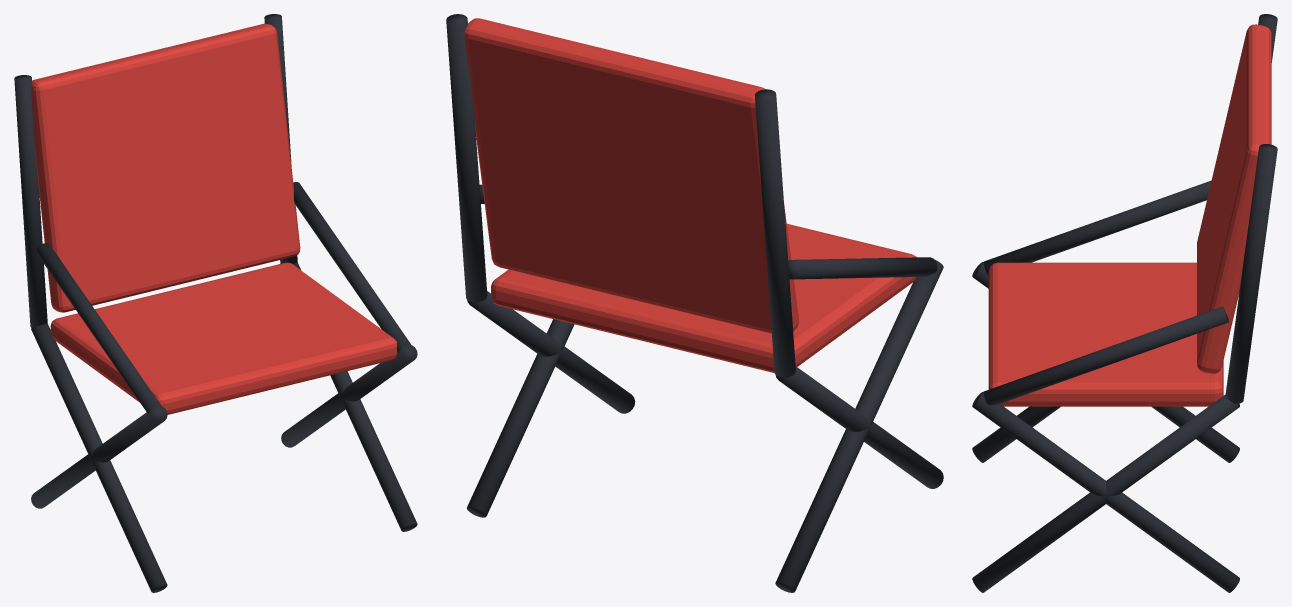
File: silla_plegable.glb
The picture shows the model from 3 angles, left to right: view 1: azimuth 30°, elevation 25°; view 2: azimuth 150°, elevation 25°; view 3: azimuth 270°, elevation 25°; orthographic projection. The views are drawn at different scales.
Visible parts, largest first — view 1: Cube.001, Cube, Cylinder, Cylinder.002, Cylinder.003, Cylinder.007, Cylinder.004, Cylinder.001, Cylinder.005, Cylinder.006; view 2: Cube.001, Cube, Cylinder.001, Cylinder.002, Cylinder.006, Cylinder.005, Cylinder, Cylinder.004, Cylinder.003; view 3: Cube, Cube.001, Cylinder.004, Cylinder.005, Cylinder.006, Cylinder.007, Cylinder.003, Cylinder.001, Cylinder.
Boxes of the visible parts, x1,y1,x2,y2 form: Cube.001: (31, 23, 300, 312); Cube: (50, 262, 397, 414); Cylinder: (31, 323, 167, 592); Cylinder.002: (14, 75, 47, 327); Cylinder.003: (36, 243, 161, 413); Cylinder.007: (293, 182, 411, 352); Cylinder.004: (293, 262, 417, 531); Cylinder.001: (31, 405, 167, 508); Cylinder.005: (281, 344, 417, 447); Cylinder.006: (264, 14, 297, 263); Cube.001: (464, 18, 798, 333); Cube: (491, 223, 916, 372); Cylinder.001: (775, 259, 943, 592); Cylinder.002: (754, 89, 795, 377); Cylinder.006: (446, 14, 487, 302); Cylinder.005: (467, 319, 574, 517); Cylinder: (775, 366, 943, 488); Cylinder.004: (467, 291, 635, 413); Cylinder.003: (788, 257, 937, 279); Cube: (988, 262, 1223, 406); Cube.001: (1197, 24, 1271, 373); Cylinder.004: (972, 394, 1239, 592); Cylinder.005: (972, 392, 1239, 592); Cylinder.006: (1225, 144, 1277, 403); Cylinder.007: (983, 306, 1228, 405); Cylinder.003: (983, 180, 1211, 274); Cylinder.001: (972, 262, 1239, 462); Cylinder: (972, 406, 1060, 462).
Bounding box in the file's own units: 0.764 × 1.15 × 0.7156.
